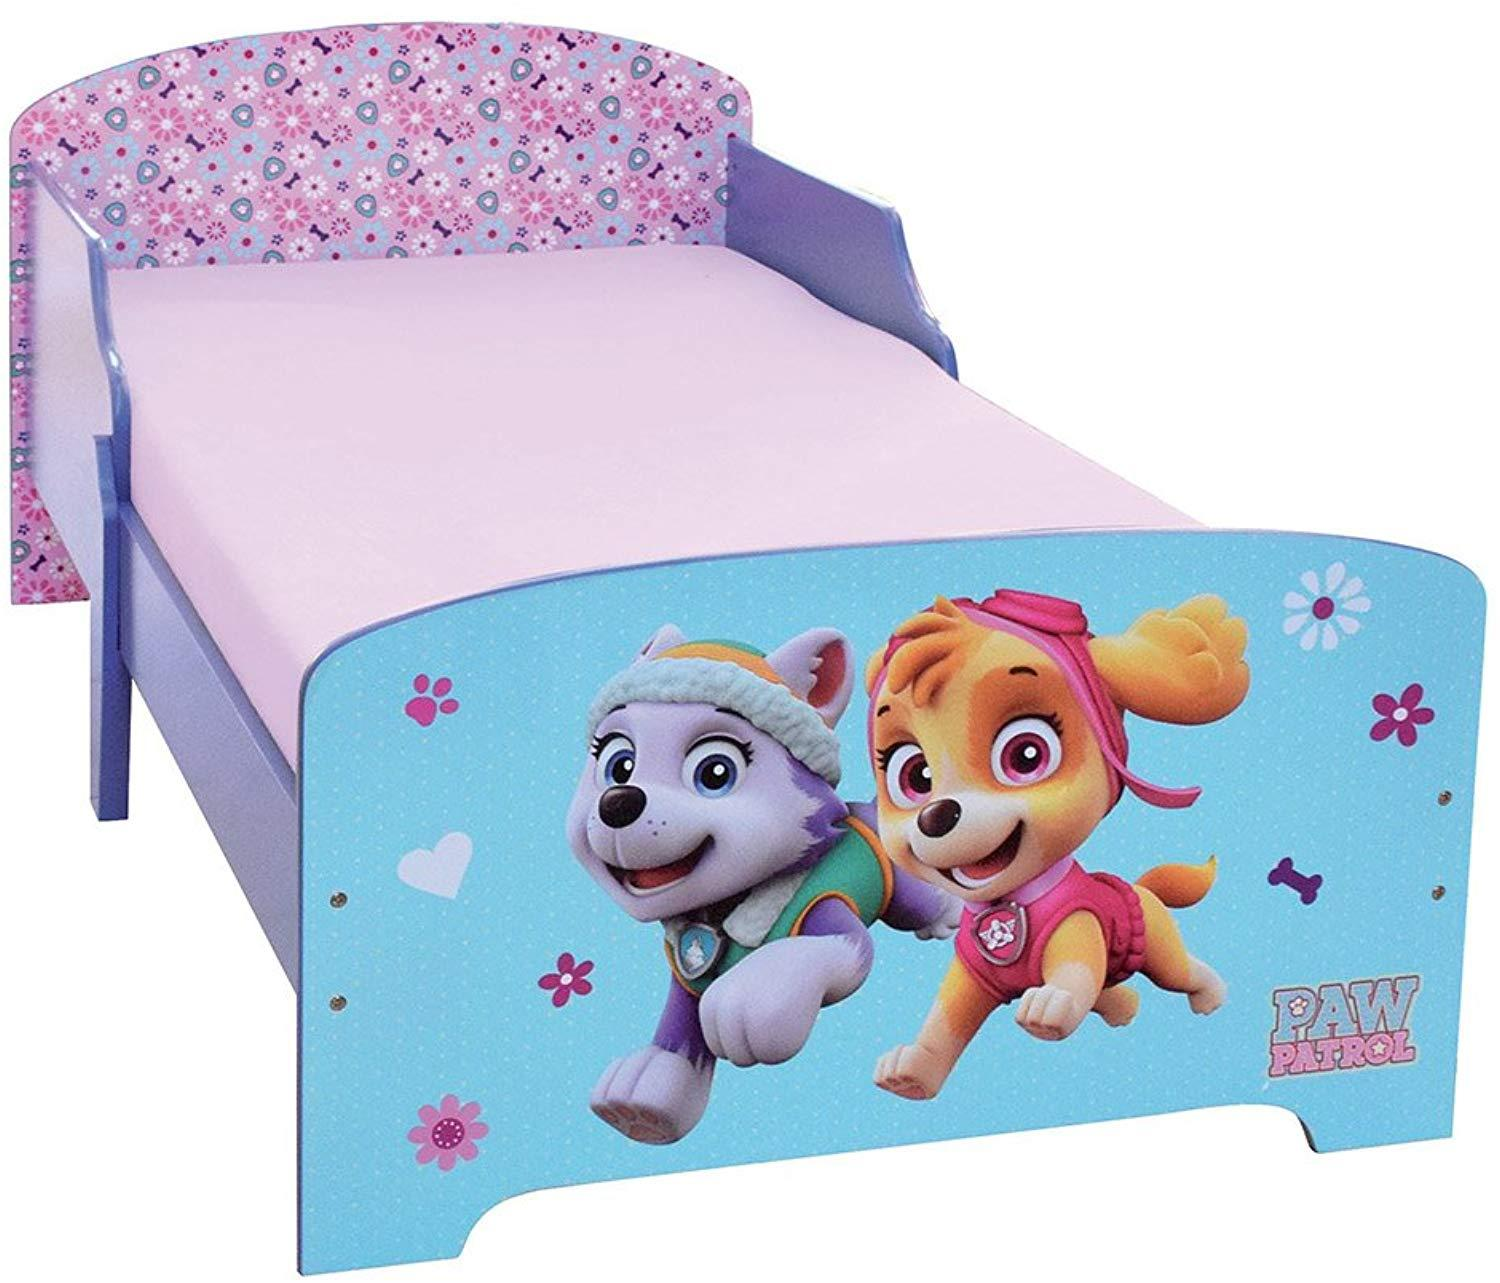bed: (144, 87, 1224, 894)
